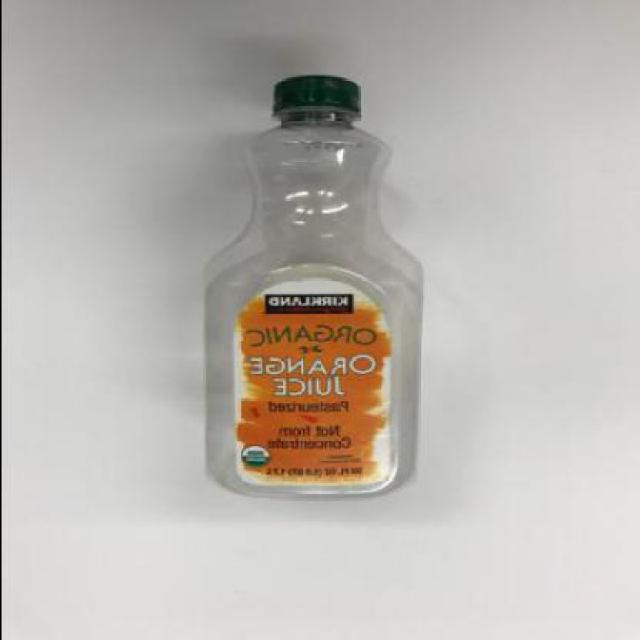PLASTIC: (203, 76, 422, 501), (252, 77, 366, 126)
